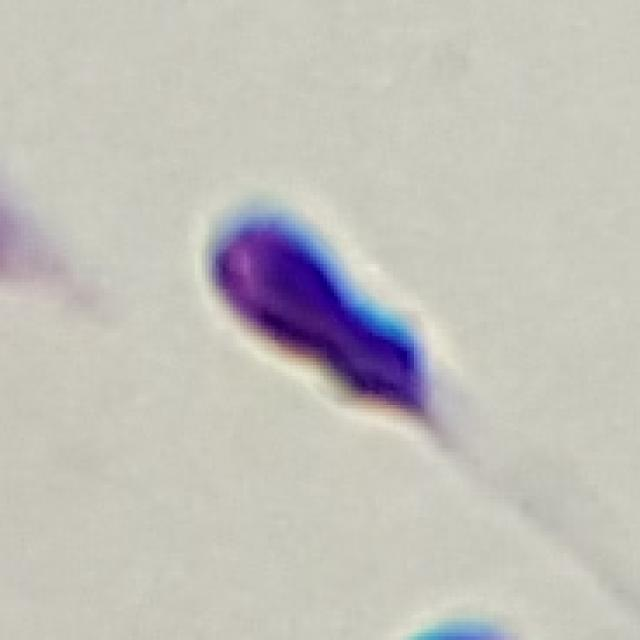abnormal sperm: (204, 204, 496, 487)
